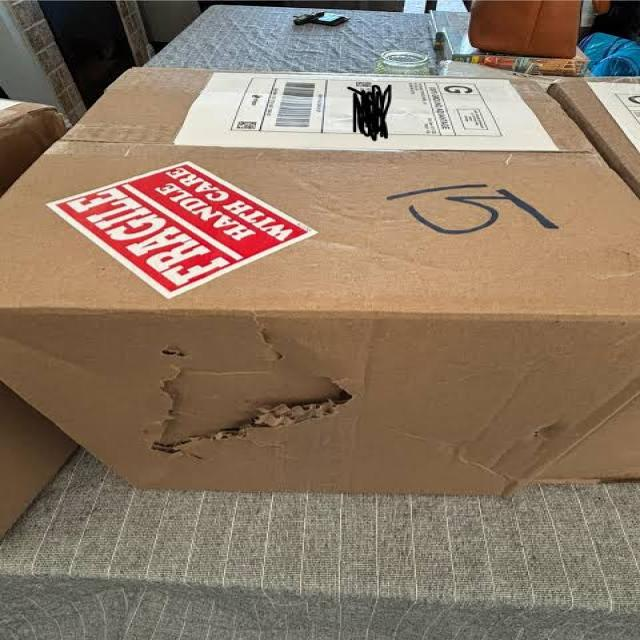carton_box: (4, 52, 640, 516)
export_mark_label: (178, 58, 563, 151)
fragile_label: (34, 166, 354, 302)
package_damage: (110, 308, 381, 488)
